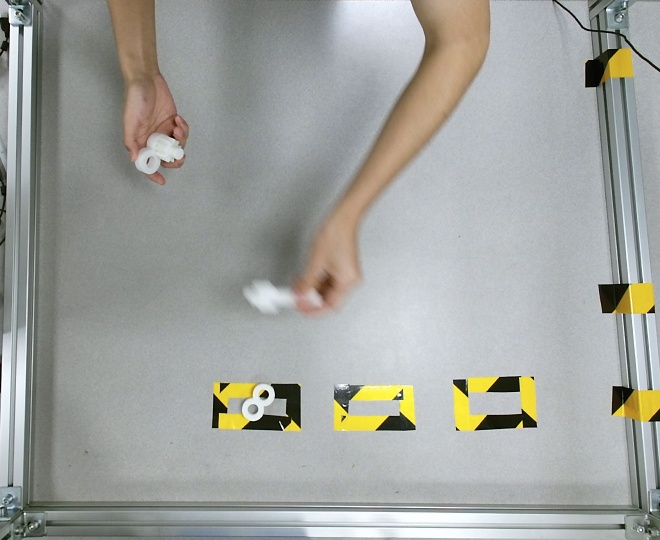stage_2: (134, 132, 183, 173)
